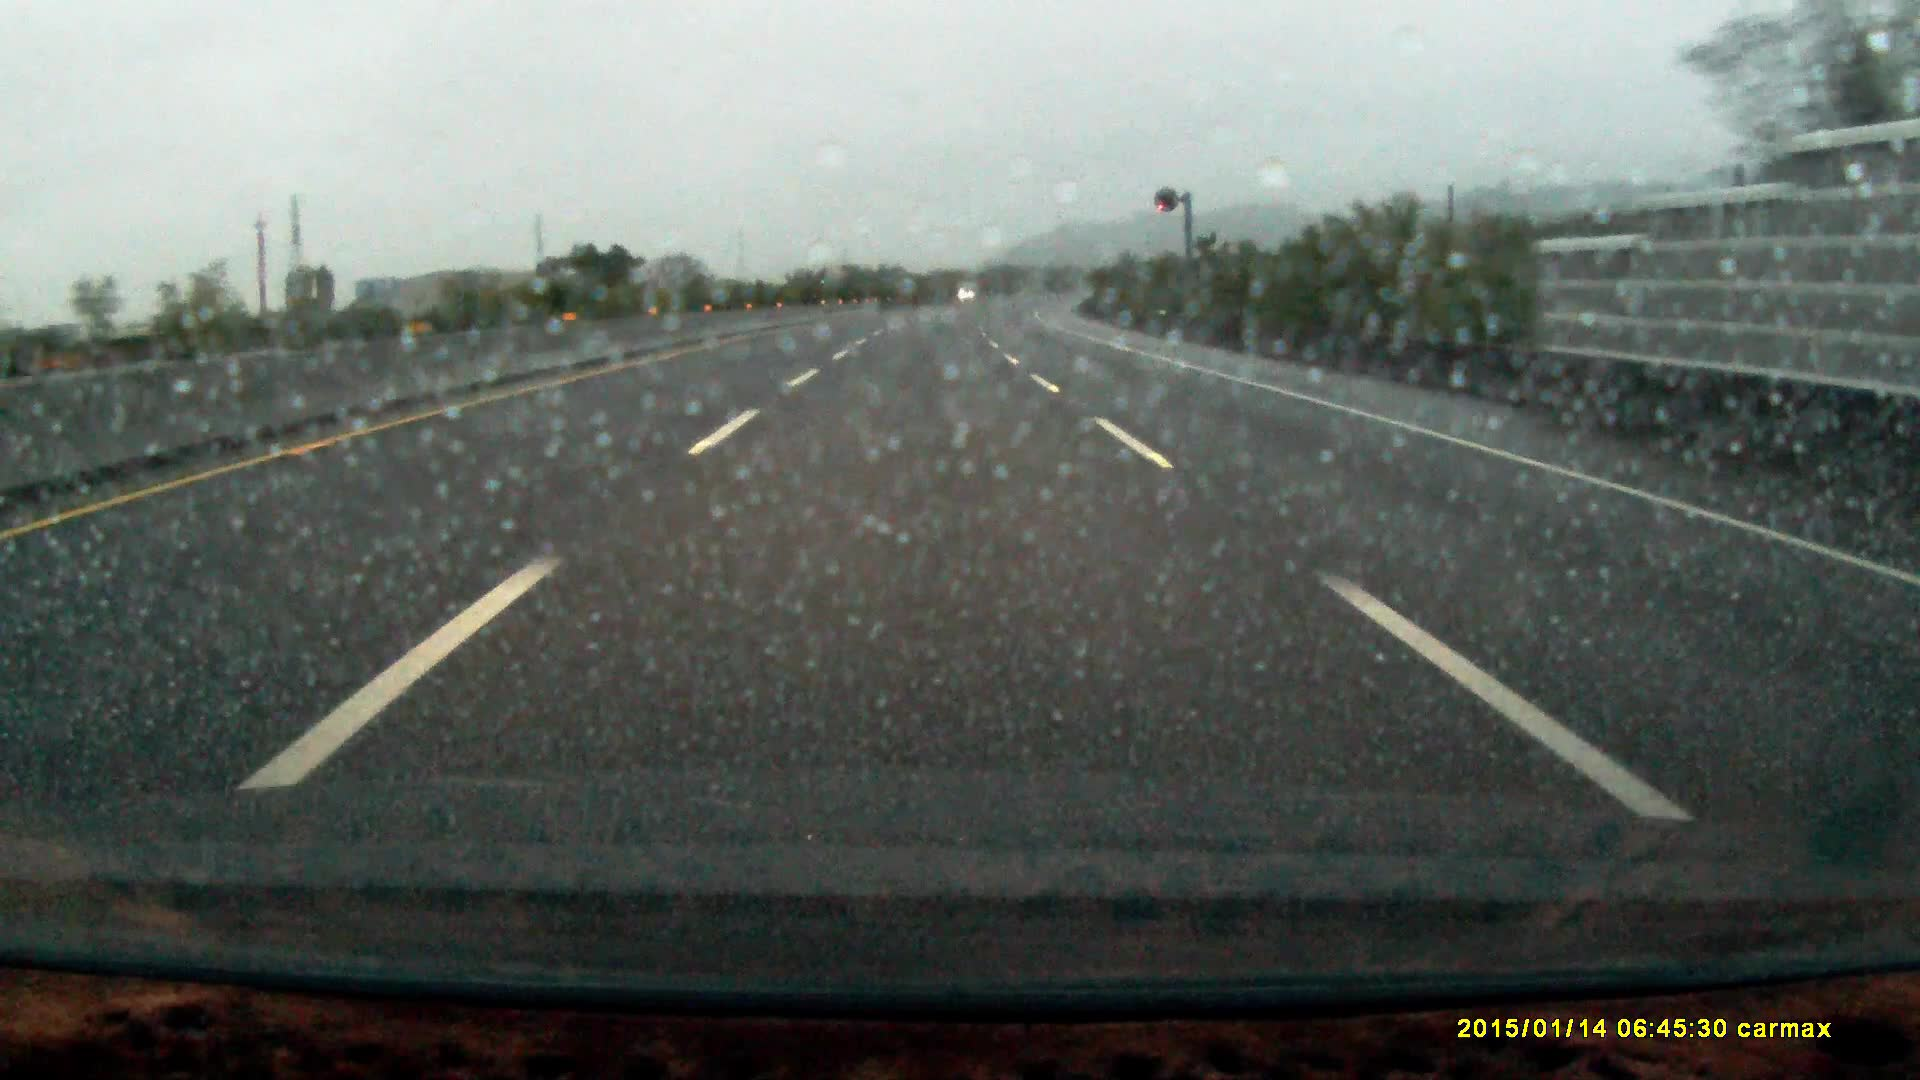vehicle: (818, 268, 857, 305)
